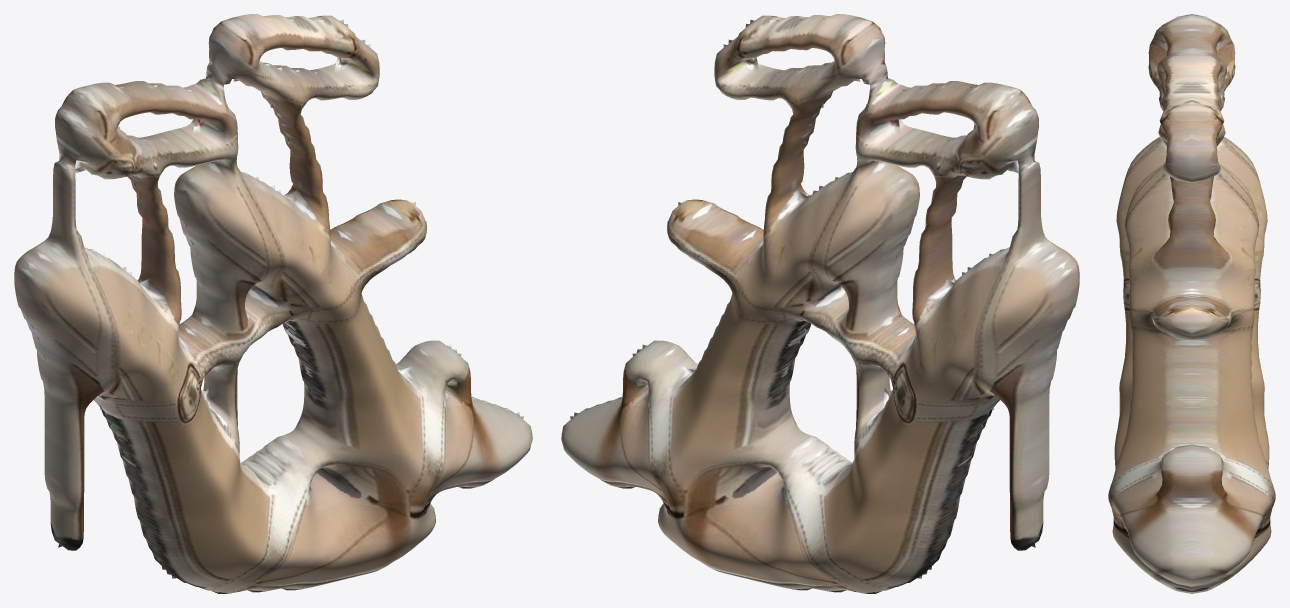
Rendered from prod-ae-gold-strappy-heels.glb.
The picture shows the model from 3 angles, left to right: view 1: azimuth 30°, elevation 25°; view 2: azimuth 150°, elevation 25°; view 3: azimuth 270°, elevation 25°; orthographic projection. The views are drawn at different scales.
Visible parts, largest first — view 1: prod-ae-gold-strappy-heels_standalone; view 2: prod-ae-gold-strappy-heels_standalone; view 3: prod-ae-gold-strappy-heels_standalone.
Part boxes in pixels (left/top/right/bottom): prod-ae-gold-strappy-heels_standalone: left=14, top=14, right=532, bottom=593; prod-ae-gold-strappy-heels_standalone: left=561, top=14, right=1079, bottom=593; prod-ae-gold-strappy-heels_standalone: left=1108, top=14, right=1275, bottom=593.
Bounding box in the file's own units: 0.2706 × 0.298 × 0.0922.
Materials: 1 (1 with a texture image).
